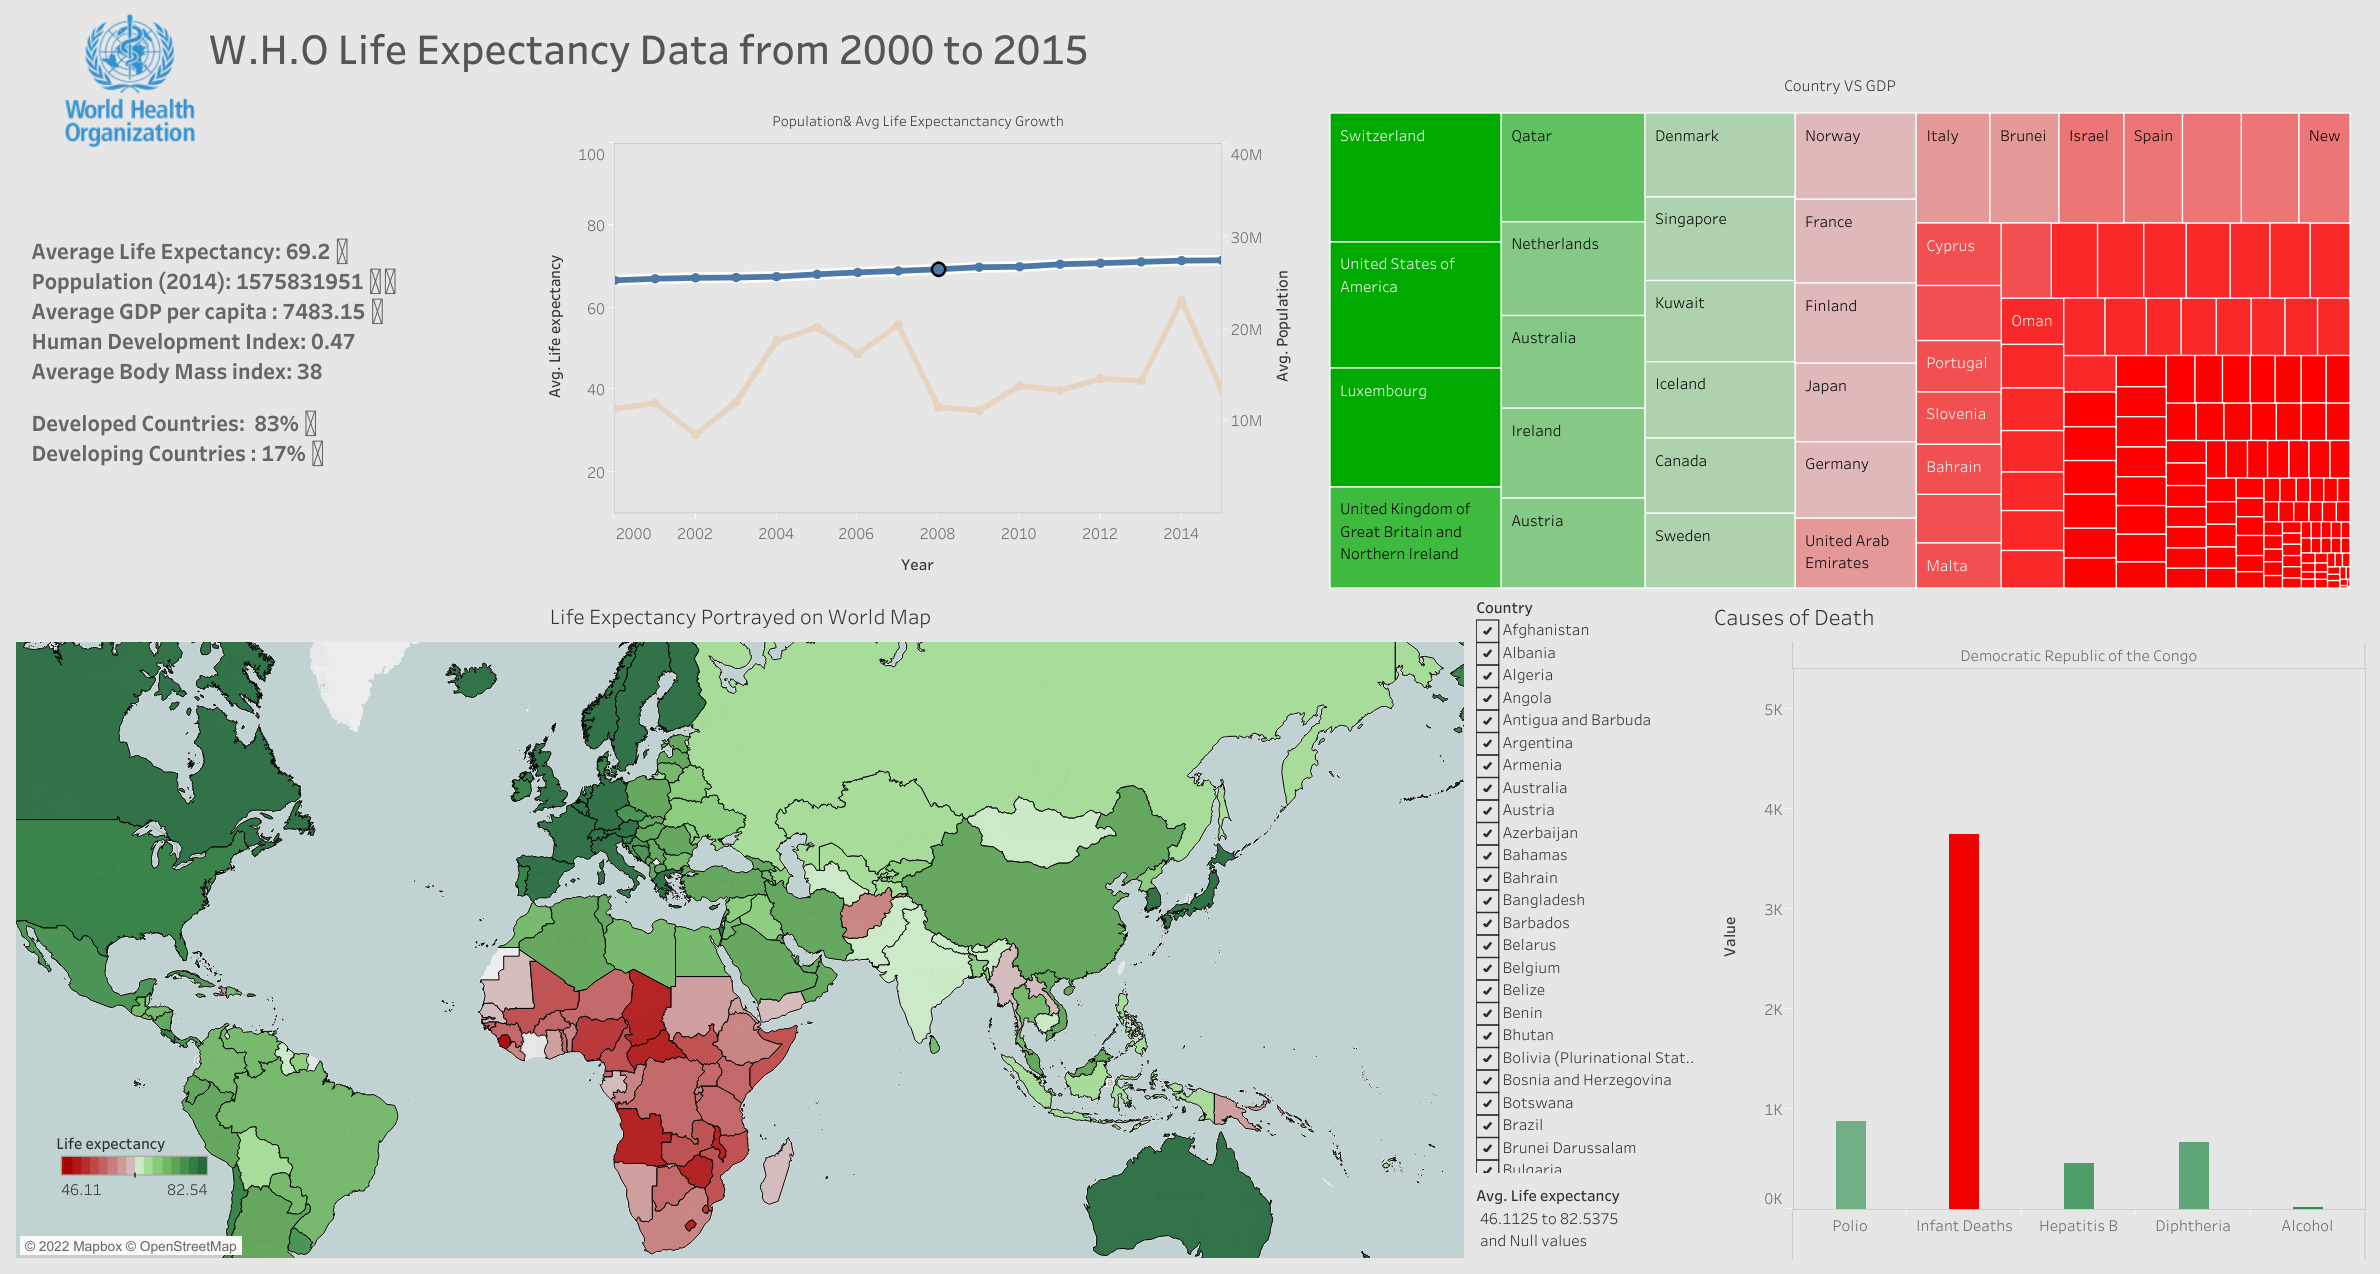

What the dashboard file says about the page in this screenshot:
{"tool":"tableau","page":{"name":"Dashboard ","canvas":[1905,1020],"ordinal":0},"visuals":[{"type":"title","box":[8,8,1889,60]},{"type":"image","param":"Image/WHO_logo.svg.png","box":[52.3,11,109.6,107]},{"type":"worksheet","title":"Tree map","mark":"Automatic","box":[1060,53,824,422]},{"type":"worksheet","title":"Poppulation & life expect","mark":"Automatic","rows":["Life expectancy","Population"],"cols":["Year"],"box":[427,82,615,386]},{"type":"text","box":[8,85,409.2,374]},{"type":"worksheet","title":"World","mark":"Multipolygon","box":[8,471,1168.6,541]},{"type":"filter","title":"World","param":"[federated.11bibg50jx8wjk1bz413x0i3572v].[none:Country:nk]","box":[1176.6,471,186,468]},{"type":"worksheet","title":"Cause of Death","mark":"Automatic","cols":["Country"],"box":[1362.6,471,534.4,541]},{"type":"legend","title":"World","param":"[federated.11bibg50jx8wjk1bz413x0i3572v].[avg:Life expectancy:qk]","box":[45,901,126,77]},{"type":"filter","title":"World","param":"[federated.11bibg50jx8wjk1bz413x0i3572v].[avg:Life expectancy:qk]","box":[1176.6,939,186,73]}]}

Visuals, with their boxes in screenshot pixels (x1, y1, x2, y2), scaled from the page's 1905x1020 canvas onto the 2380x1274 screenshot:
title: select_region(10, 10, 2370, 85)
image: select_region(65, 14, 202, 147)
"Tree map" worksheet: select_region(1324, 66, 2354, 593)
"Poppulation & life expect" worksheet: select_region(533, 102, 1302, 585)
text: select_region(10, 106, 521, 573)
"World" worksheet (Multipolygon marks): select_region(10, 588, 1470, 1264)
"World" filter: select_region(1470, 588, 1702, 1173)
"Cause of Death" worksheet: select_region(1702, 588, 2370, 1264)
"World" legend: select_region(56, 1125, 214, 1222)
"World" filter: select_region(1470, 1173, 1702, 1264)
